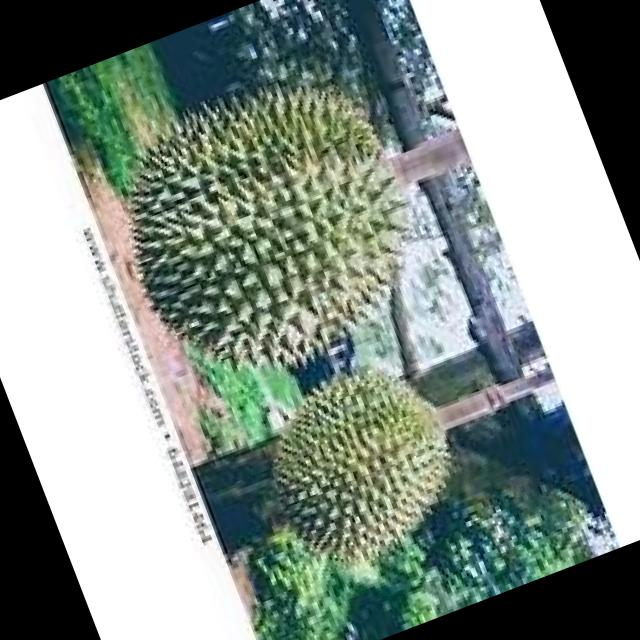fruit: (63, 12, 496, 440), (211, 326, 500, 606)
